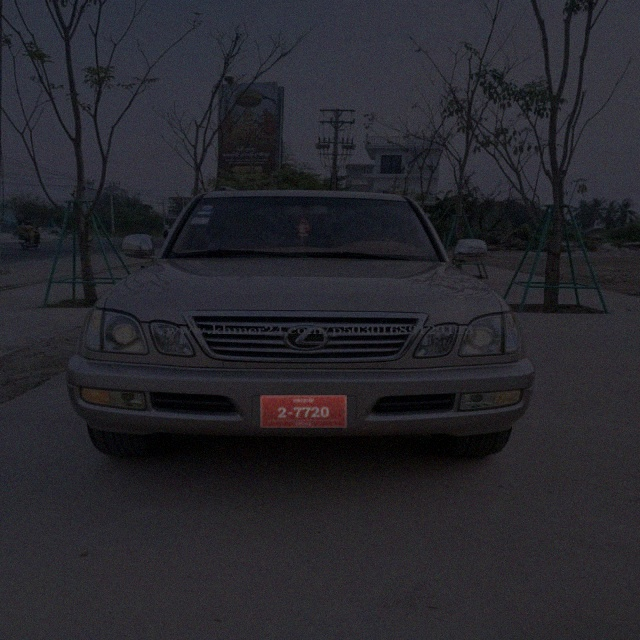Plate Number: (260, 395, 348, 429)
